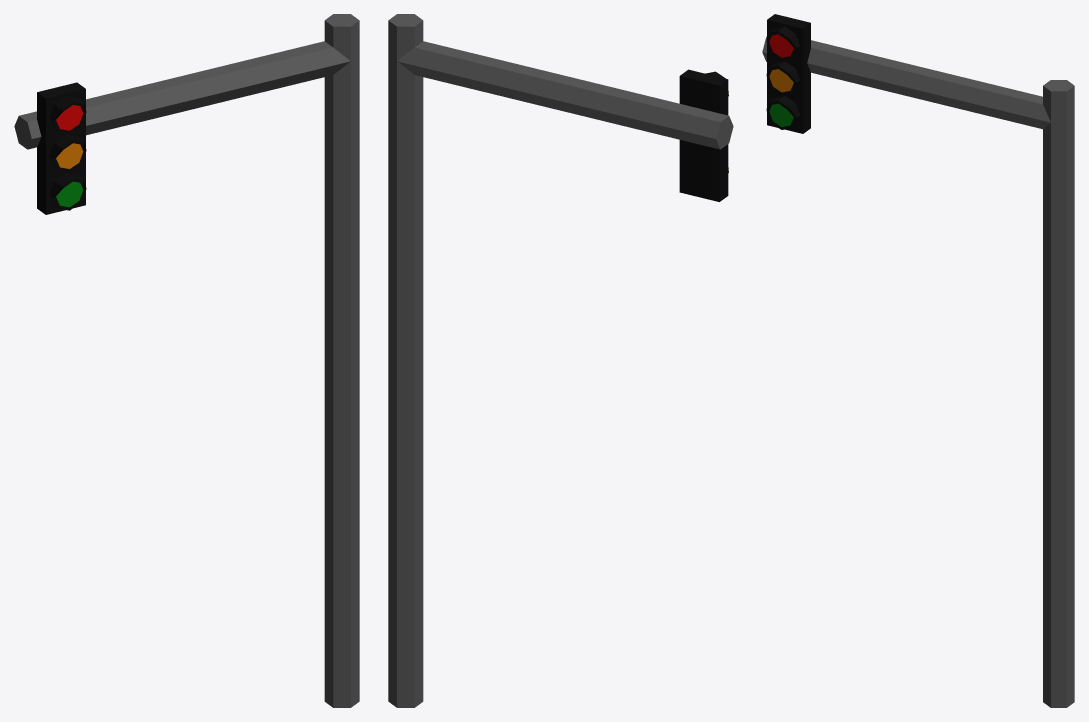
Rendered from SM_trafficlight.FBX.
The picture shows the model from 3 angles, left to right: view 1: azimuth 30°, elevation 25°; view 2: azimuth 150°, elevation 25°; view 3: azimuth 330°, elevation 25°; orthographic projection. The views are drawn at different scales.
Visible parts, largest first — view 1: trafficlight; view 2: trafficlight; view 3: trafficlight.
Boxes of the visible parts, <box> form: trafficlight: <box>14,14,359,707</box>; trafficlight: <box>388,14,733,707</box>; trafficlight: <box>762,14,1074,707</box>.
Size of the model in its own units: 219 by 434 by 33.45.
